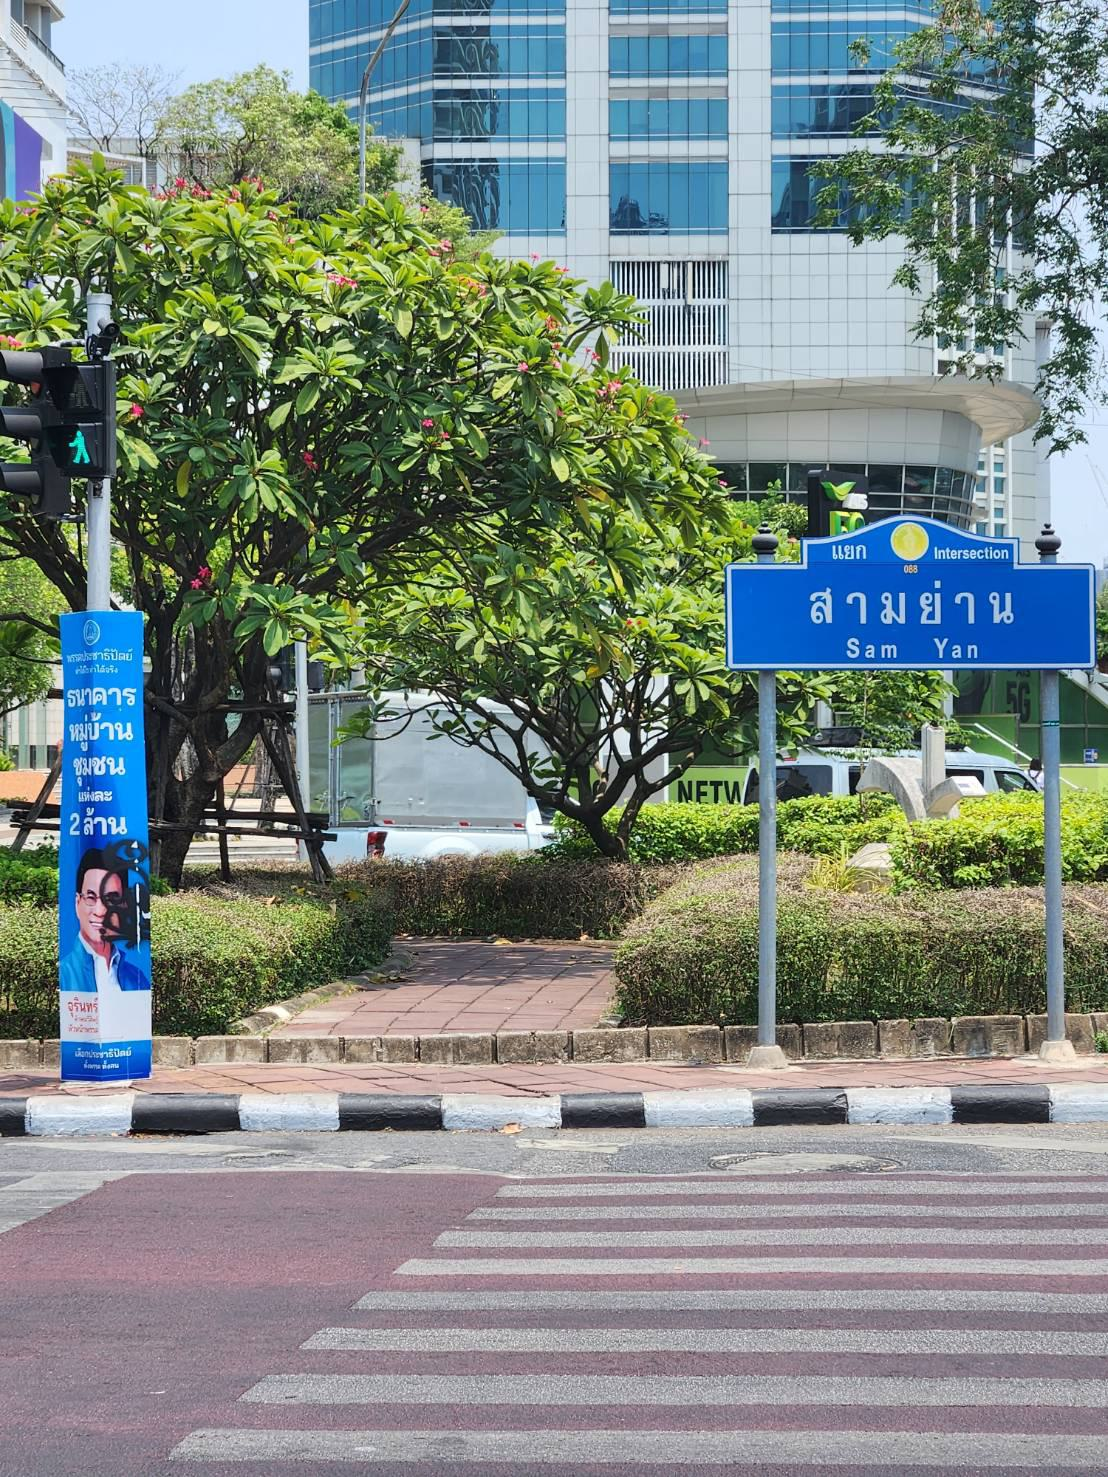Banner: (43, 606, 156, 1089)
